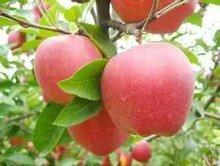apple: (100, 42, 194, 137), (32, 34, 106, 107)
